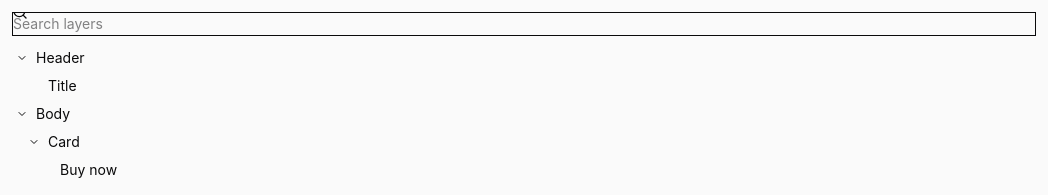
Scenario: rename › starts a rename on double click
The image size is (1048, 195).
Double-click the button "Title" at (62, 86), box x1=48 y1=75 x2=984 y2=98
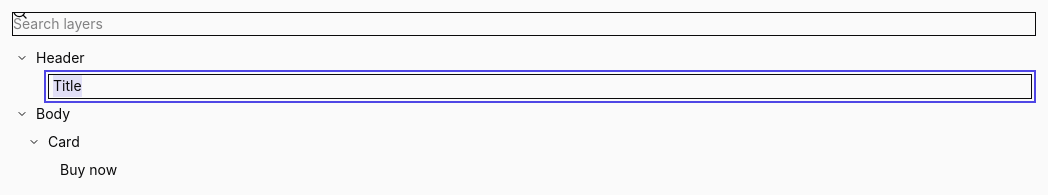
Check: the field named "Rename Title" is shown, box x1=48 y1=74 x2=1032 y2=99
